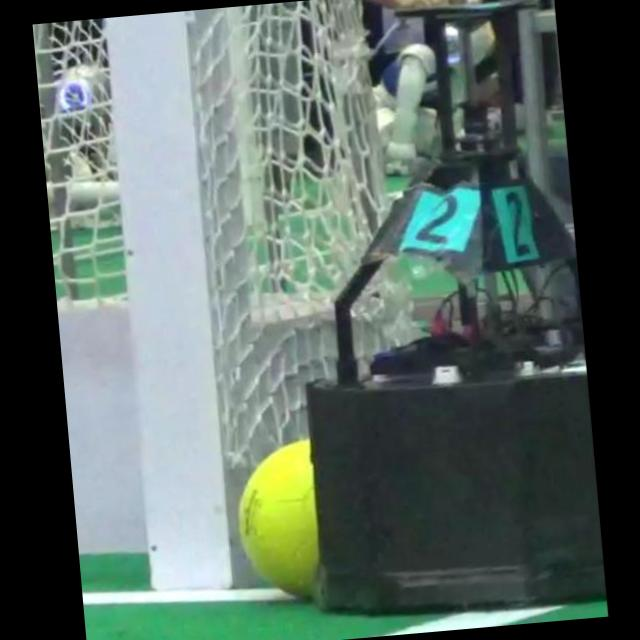ball: (237, 440, 318, 596)
goal: (104, 12, 232, 591)
robot: (306, 0, 606, 613)
